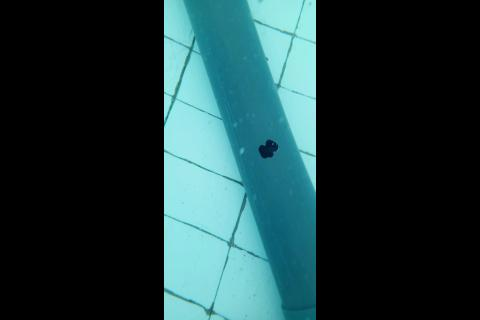kebocoran: (257, 137, 279, 160)
